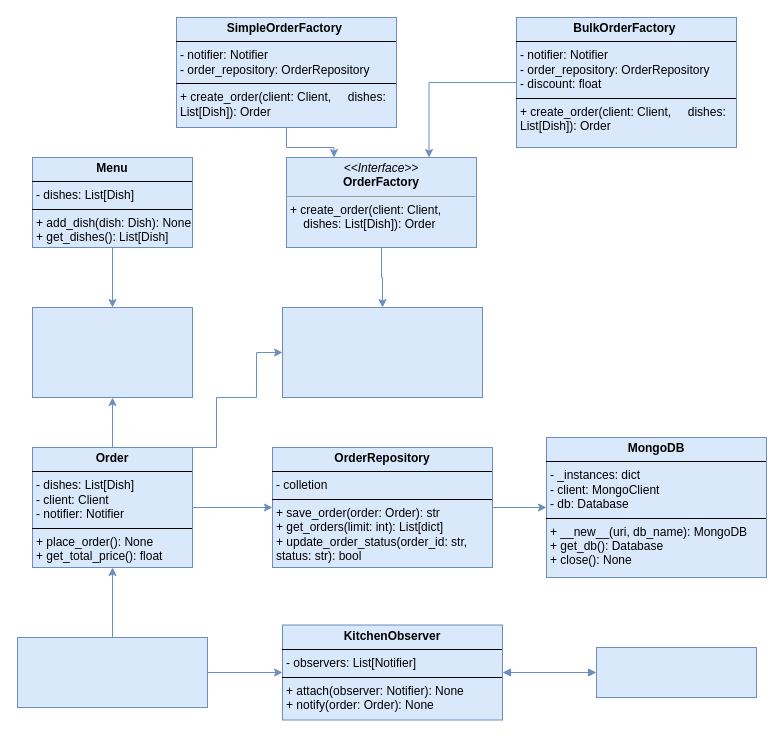
Image size: 784x738. Some labels were removed from this diagram. Each missing label, with the centre of its shape:
"<<Interface>> Notifier + notify(order: Order): None" belongs at (112,672).
"Client - name: str + make_orderdishes: List[Dish], factory: OrderFactory): Order" belongs at (382,352).
"Dish - name: str - price: float + get_info(): str" belongs at (112,352).
"KitchenNotifier + notify(order: Order): None" belongs at (676,672).
